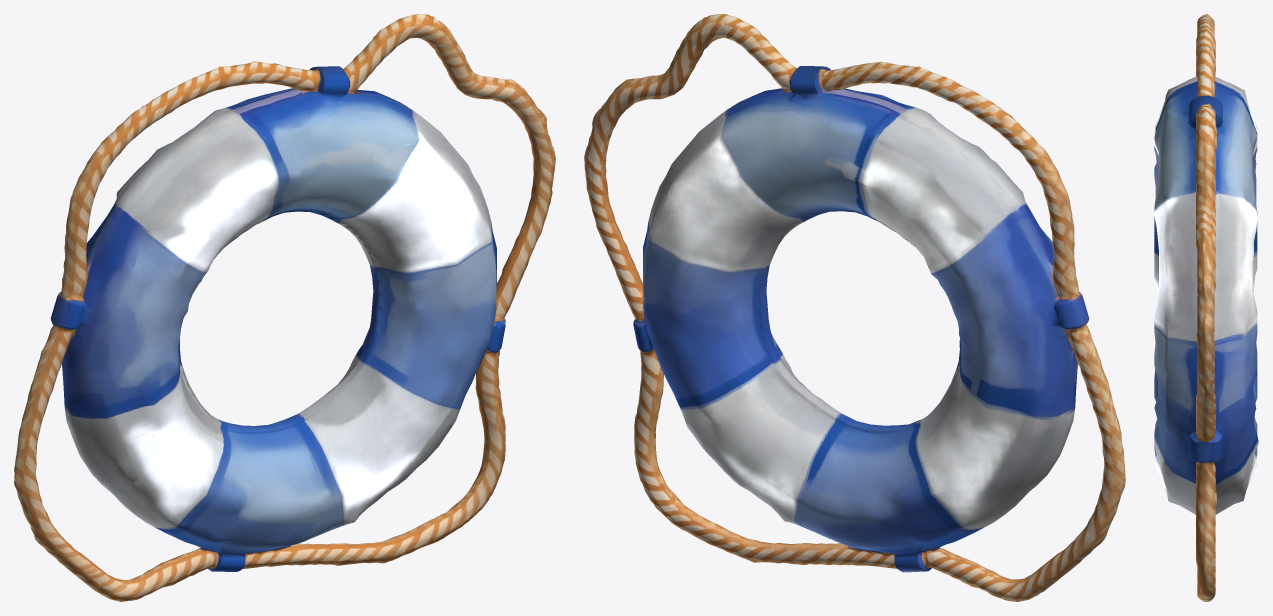
File: watercolor-lifebuoy.glb
The picture shows the model from 3 angles, left to right: view 1: azimuth 30°, elevation 25°; view 2: azimuth 150°, elevation 25°; view 3: azimuth 270°, elevation 25°; orthographic projection. The views are drawn at different scales.
Bounding box in the file's own units: 1.91 × 1.82 × 0.3523.
Materials: 1 (1 with a texture image).
